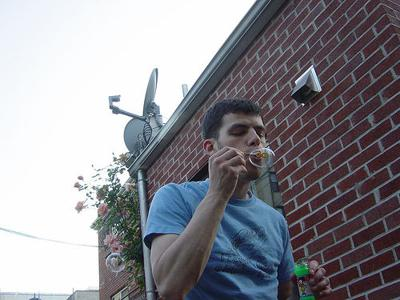person: (145, 100, 309, 300)
